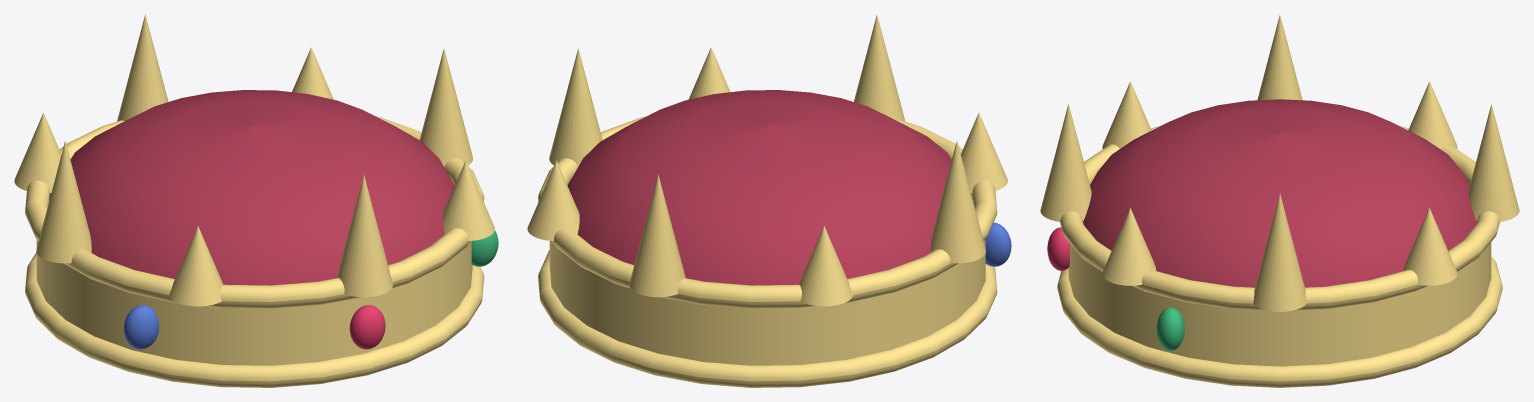
File: crown.glb
3 views of the same model, side by side, from view 1: azimuth 30°, elevation 25°; view 2: azimuth 150°, elevation 25°; view 3: azimuth 270°, elevation 25° (orthographic). The views are drawn at different scales.
Bounding box in the file's own units: 0.17 × 0.076 × 0.17.
